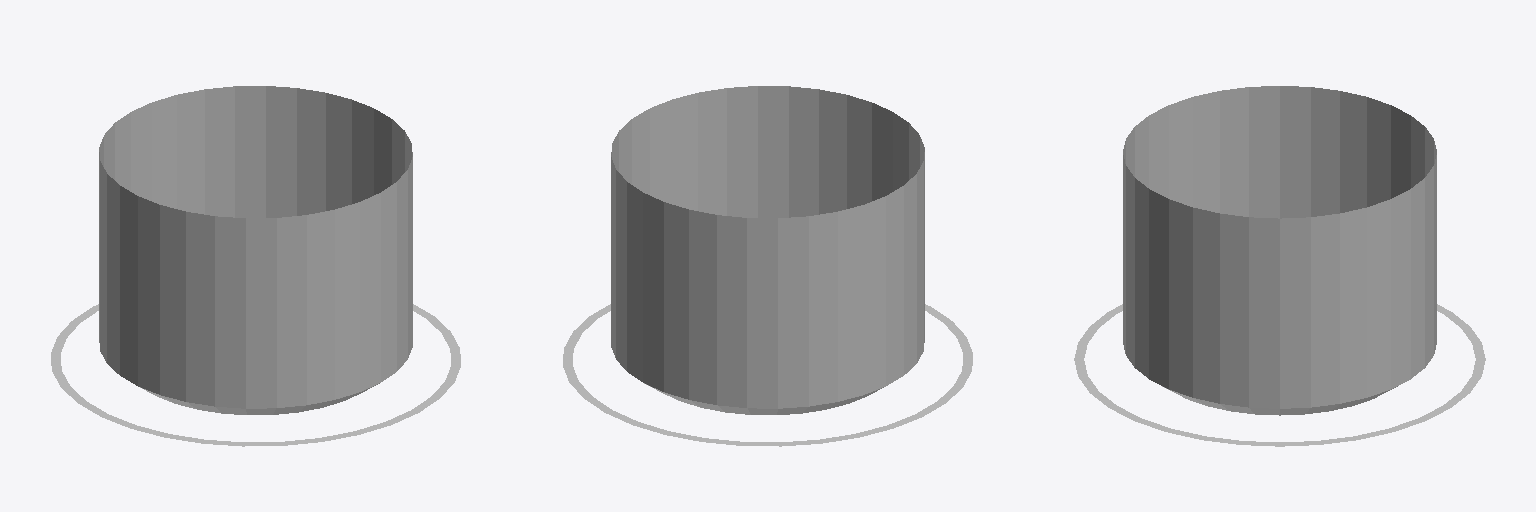
The model's file is teleporter.obj.
3 views of the same model, side by side, from view 1: azimuth 30°, elevation 25°; view 2: azimuth 150°, elevation 25°; view 3: azimuth 270°, elevation 25° (orthographic).
Parts seen in each view (by area): view 1: Circle; view 2: Circle; view 3: Circle.
Boxes of the visible parts, x1,y1,x2,y2 form: Circle: [51, 86, 460, 446]; Circle: [563, 86, 972, 446]; Circle: [1074, 86, 1485, 446].
Size of the model in its own units: 0.9799 by 0.5456 by 0.9799.